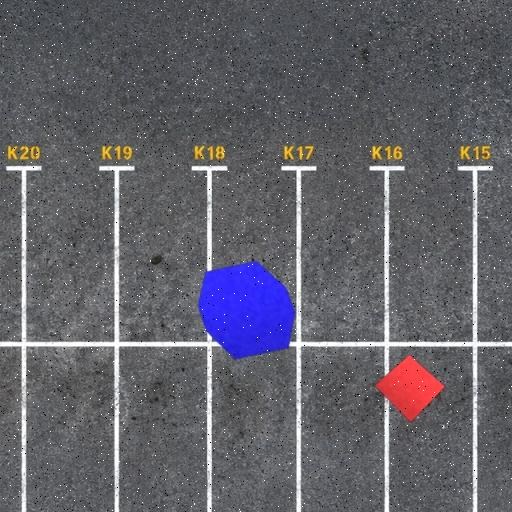RED_SQUARE: (374, 354, 446, 424)
